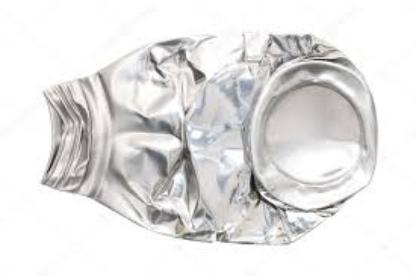Can: (31, 26, 381, 248)
